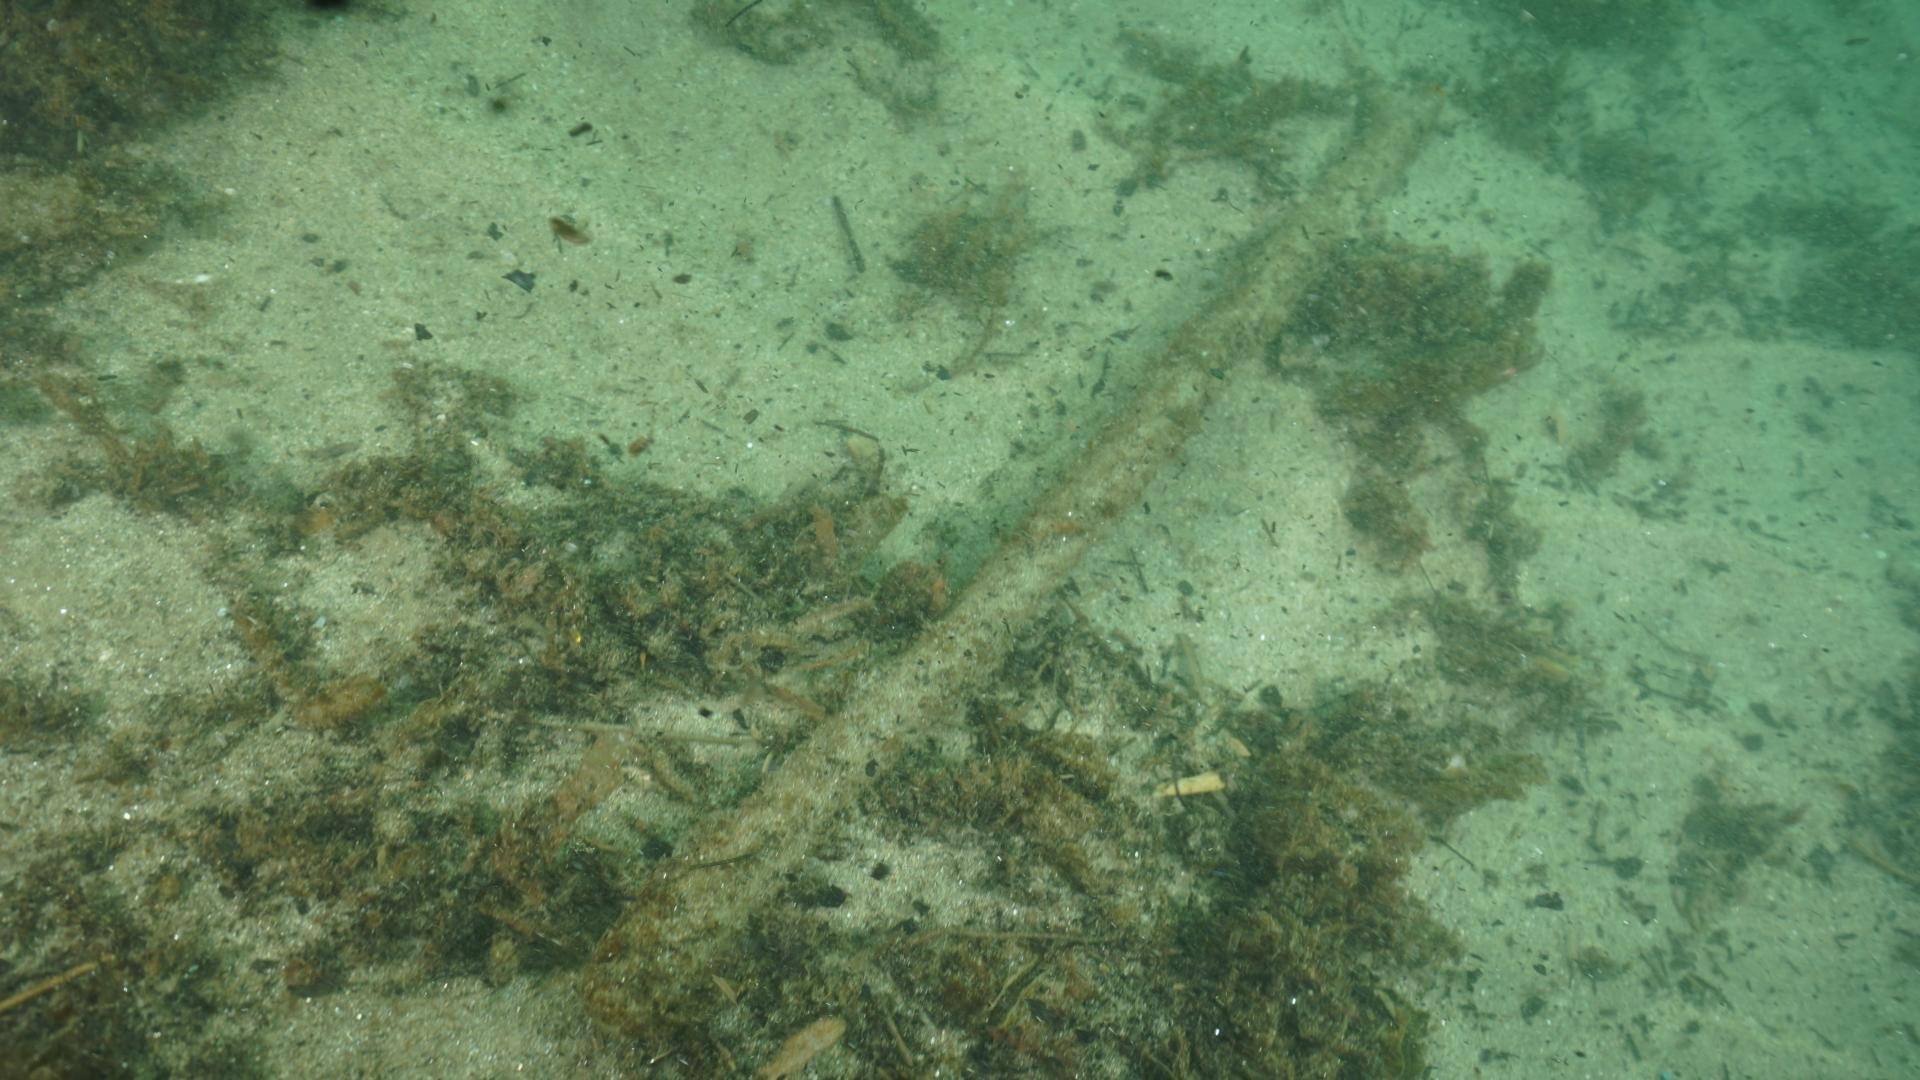wood: (576, 70, 1455, 1025)
